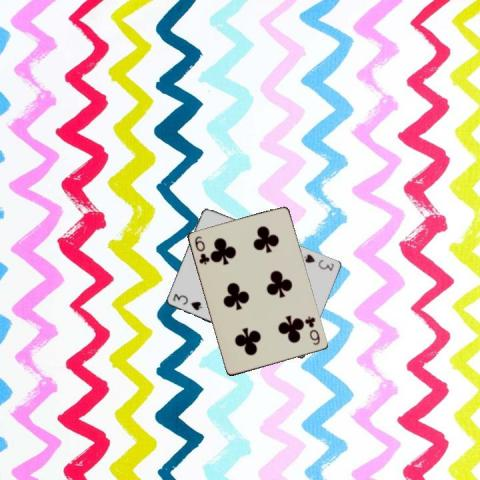3s: (301, 251, 335, 272), (170, 291, 204, 311)
6c: (192, 233, 211, 266), (303, 313, 321, 347)
